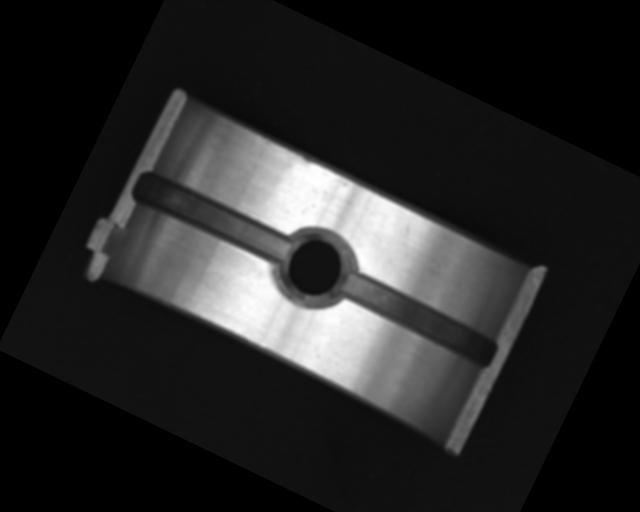gap: (331, 264, 503, 373), (128, 165, 296, 270)
hole: (265, 217, 366, 319)
